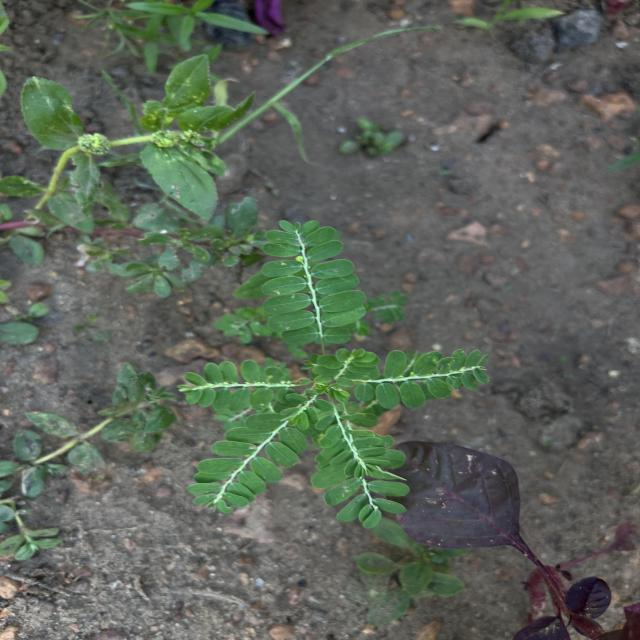Phyllanthus niruri: (188, 394, 318, 518), (258, 214, 372, 350), (318, 402, 414, 530), (362, 346, 498, 412), (174, 356, 292, 412)
